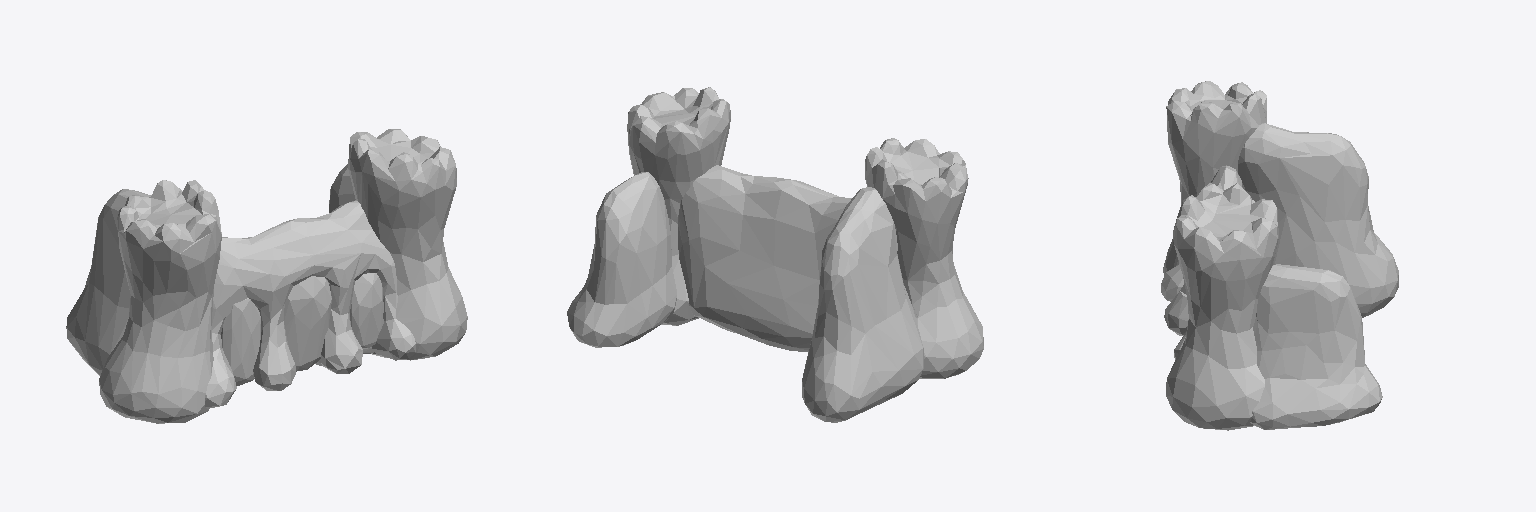
File: castle 3.obj
3 renders of one model, left to right at view 1: azimuth 30°, elevation 25°; view 2: azimuth 150°, elevation 25°; view 3: azimuth 270°, elevation 25°, orthographic.
Visible parts, largest first — view 1: lod0_Plane.014_Plane.003_Plane.014_Plane.098; view 2: lod0_Plane.014_Plane.003_Plane.014_Plane.098; view 3: lod0_Plane.014_Plane.003_Plane.014_Plane.098.
Boxes of the visible parts, box(x1,y1,x2,y2) form: lod0_Plane.014_Plane.003_Plane.014_Plane.098: box(66, 129, 467, 423); lod0_Plane.014_Plane.003_Plane.014_Plane.098: box(567, 87, 983, 422); lod0_Plane.014_Plane.003_Plane.014_Plane.098: box(1161, 81, 1398, 430).
Bounding box in the file's own units: 9.83 × 5.91 × 5.65.